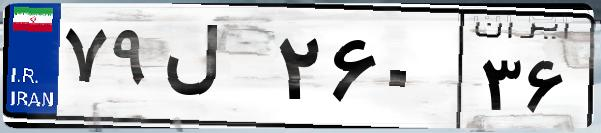0: (385, 28, 445, 110)
2: (270, 28, 330, 110)
3: (475, 38, 525, 113)
6: (330, 28, 385, 110), (525, 38, 570, 115)
7: (57, 26, 110, 100)
9: (110, 28, 158, 98)
ل: (158, 20, 270, 120)
